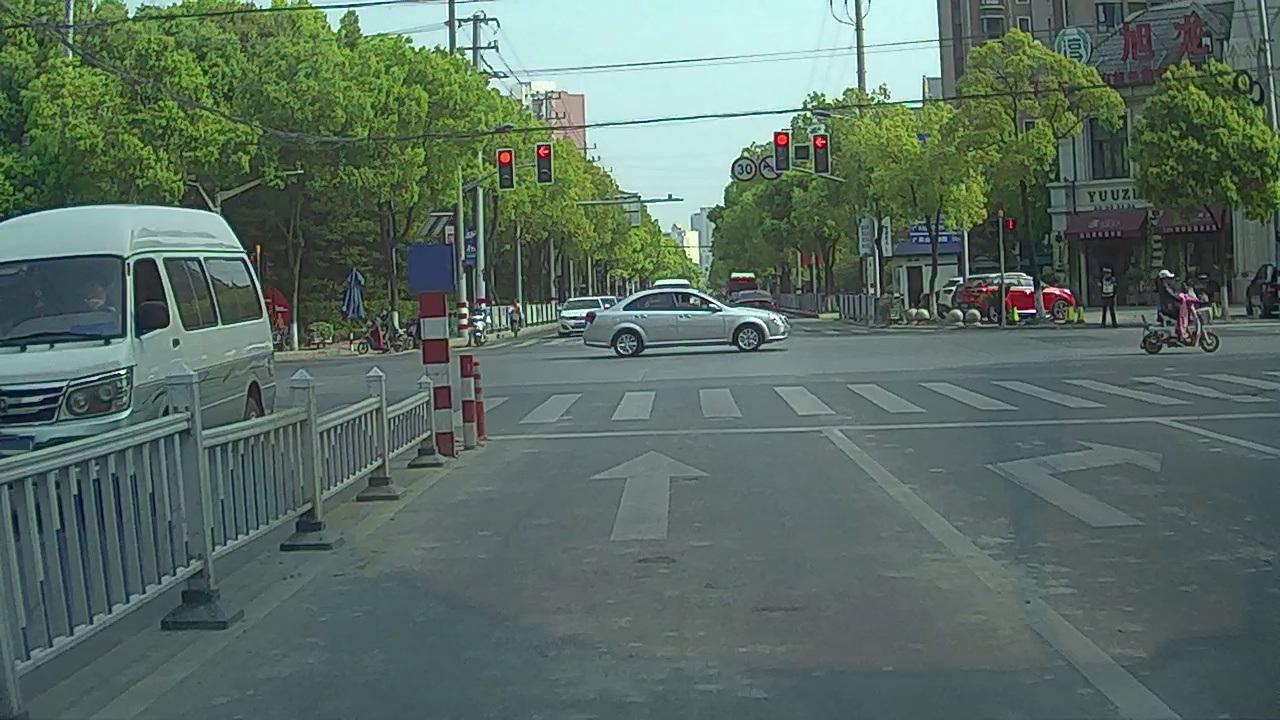traffic_light: (537, 143, 553, 185), (499, 149, 514, 190), (815, 135, 829, 175), (776, 131, 789, 172)
